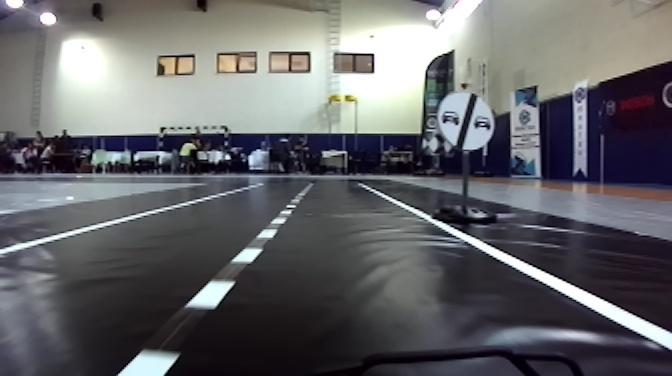sollama_serbest: (437, 91, 495, 151)
